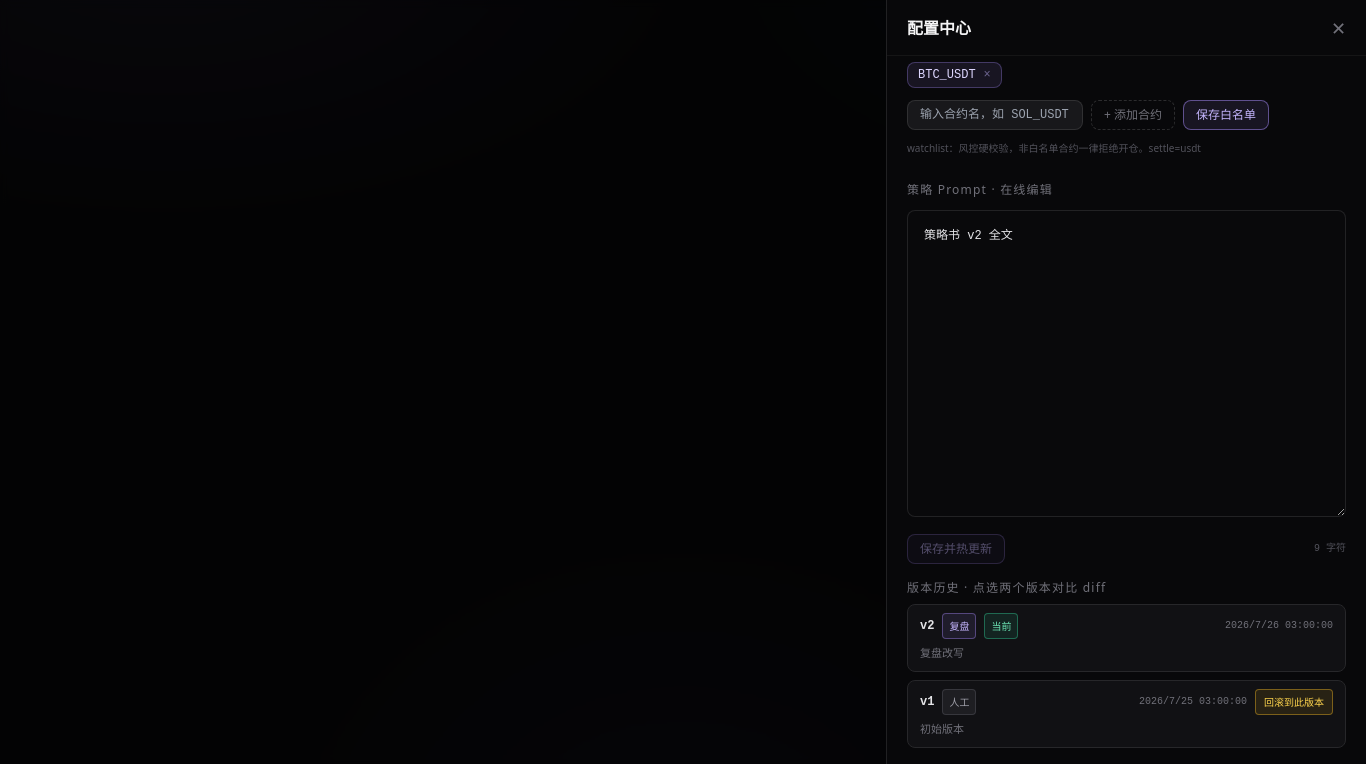
ConfigDrawer(配置抽屉) · 策略版本回滚 › 回滚成功：提示在 strategyQ 刷新期间不随 DrawerSection 卸载而消失
This screenshot has width=1366, height=764.
(page scrolled)
Expected: the text box named "system_prompt 内容" holds "策略书 v2 全文", [907,210,1346,517]
Expected: the text "初始版本" is shown, [920,721,964,736]
v1 是唯一非当前版本，只有一枚回滚按钮
Click the button "回滚到此版本": (1294, 702) [1255,689,1333,715]
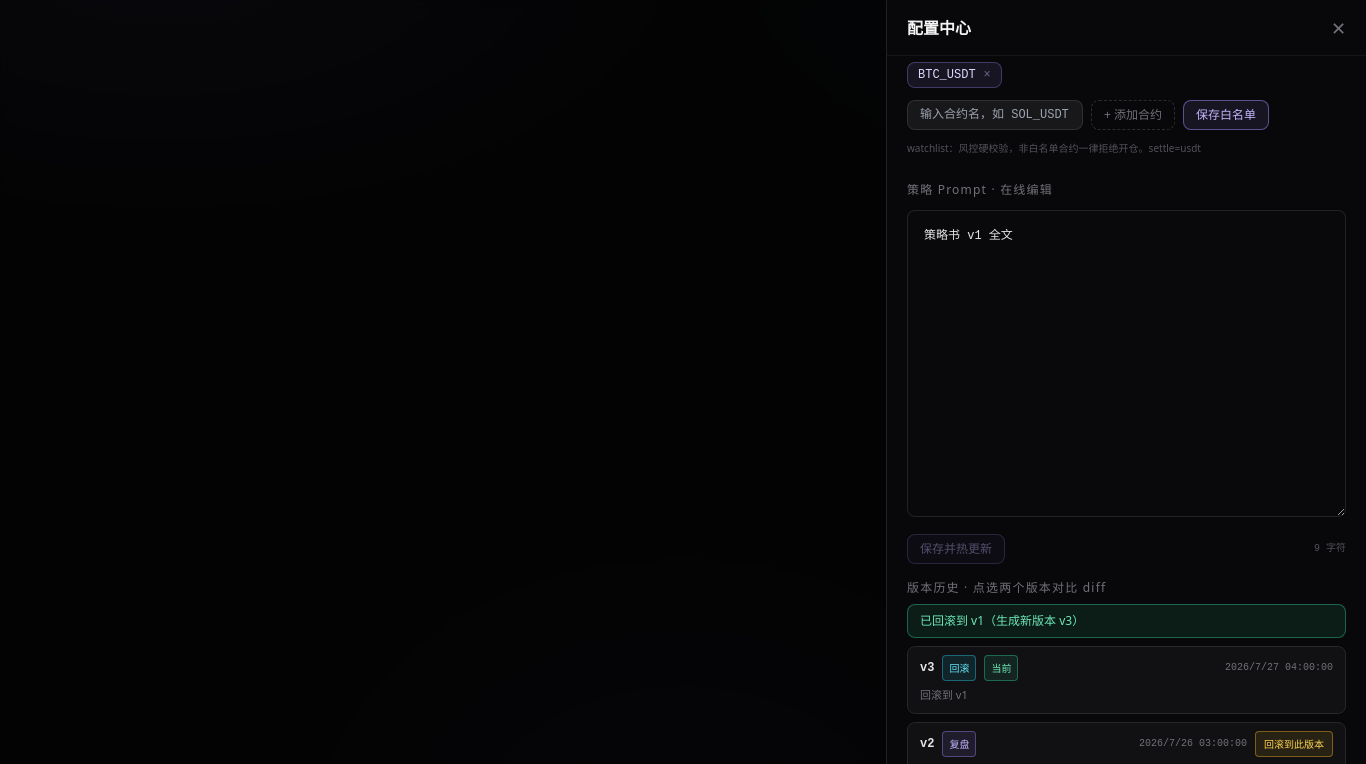
Now the text box named "system_prompt 内容" holds "策略书 v1 全文", box [907,210,1346,517]
Now the text "已回滚到 v1（生成新版本 v3）" is shown, box [907,604,1346,638]
Now the text "v3" is shown, box [920,660,934,676]
